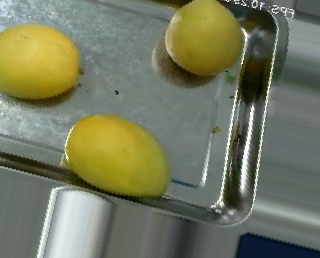Mango: (63, 110, 176, 200), (0, 20, 83, 99), (162, 0, 245, 75)
